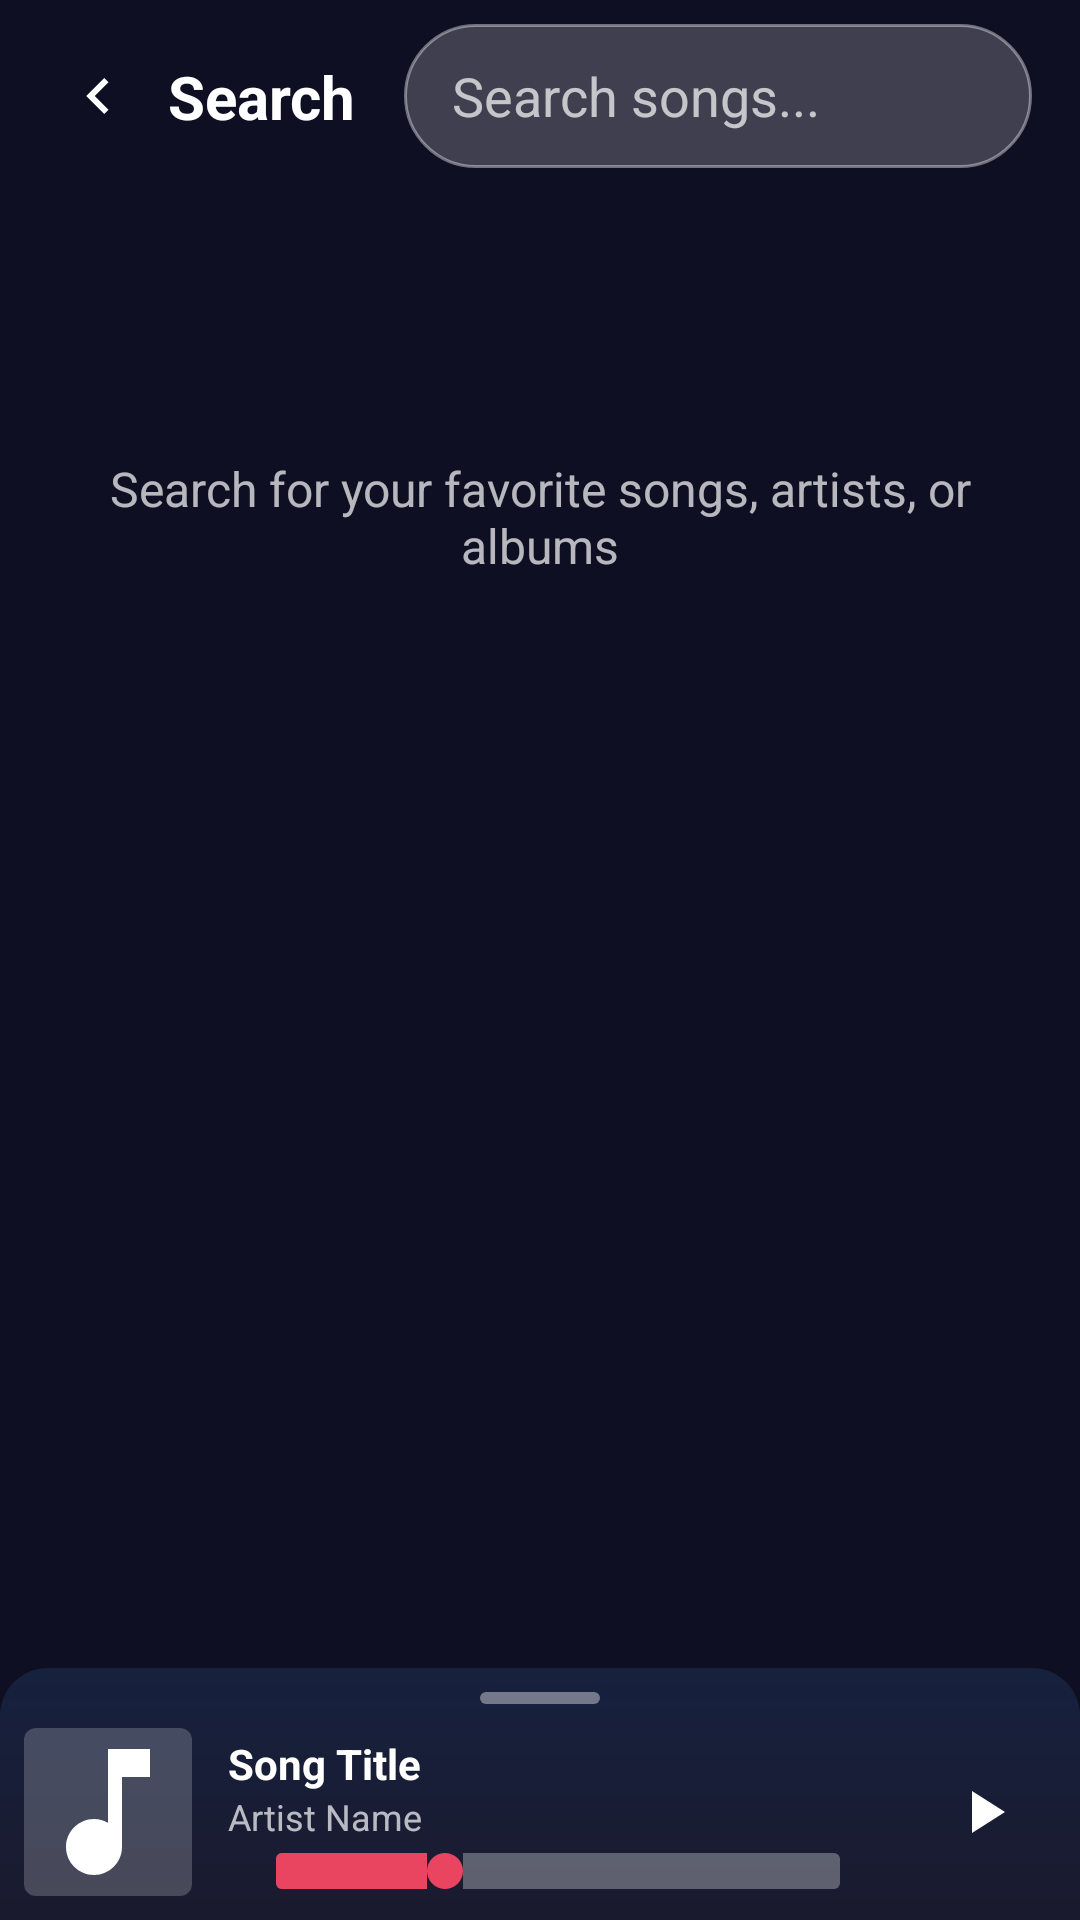

Where icons sit on this 1080*1920 app screen, as (x1, y1, x2, y2):
Album Art: (24, 1728, 192, 1896)
Play/Pause: (972, 1791, 1005, 1833)
